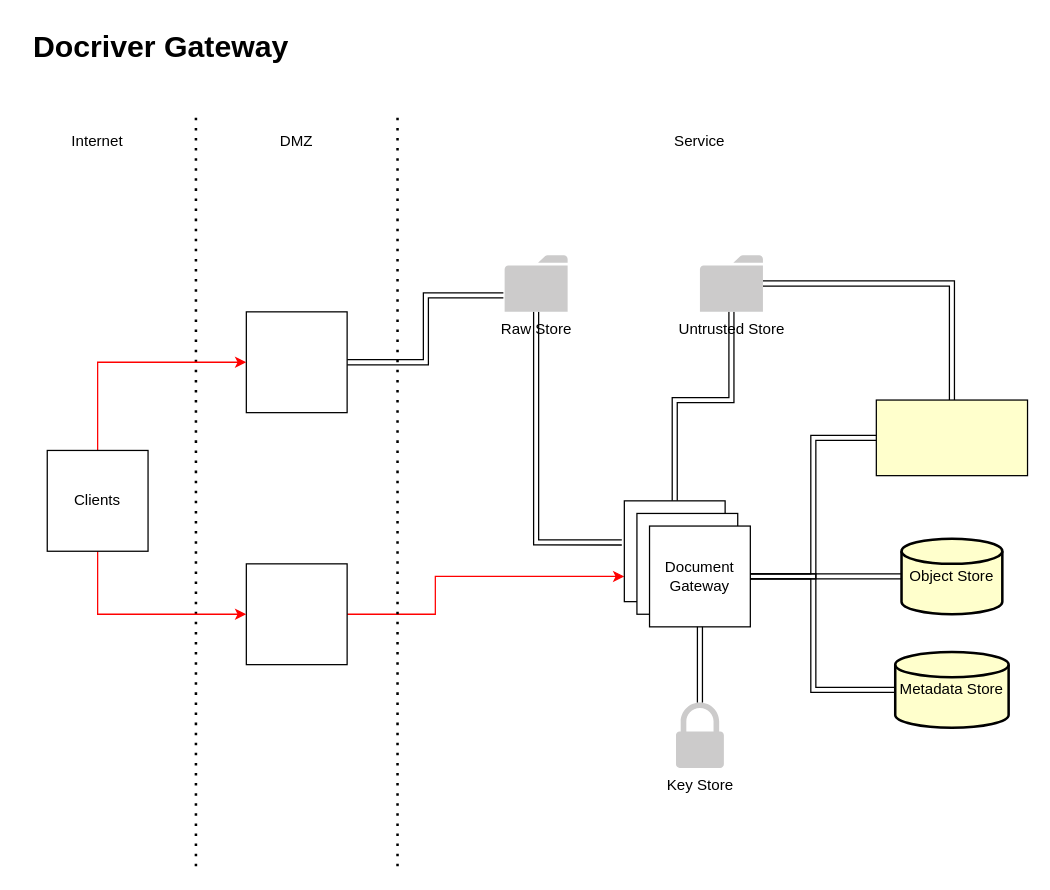
The diagram is 1050 pixels wide and 890 high, and some of its shapes have lost their labels. The centre of each missing label's shape, as x and y in pixels:
API Gateway: [296,614]
SFTP Server: [296,362]
Virus Scanner: [951,437]
